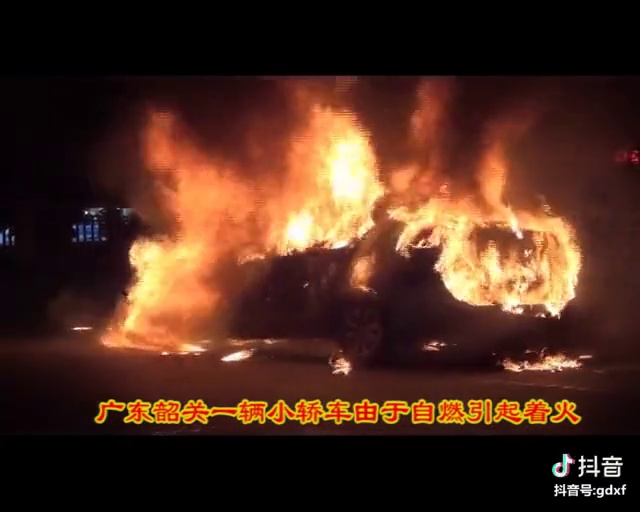fire: (111, 106, 588, 364)
